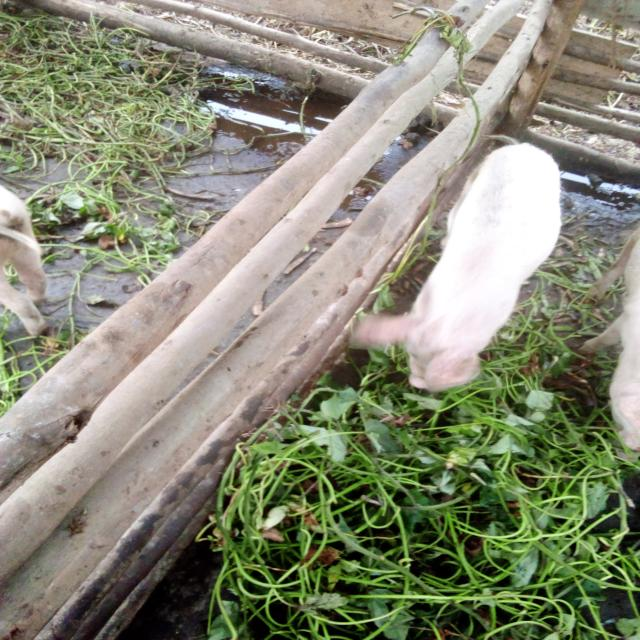pig: (312, 108, 584, 422)
